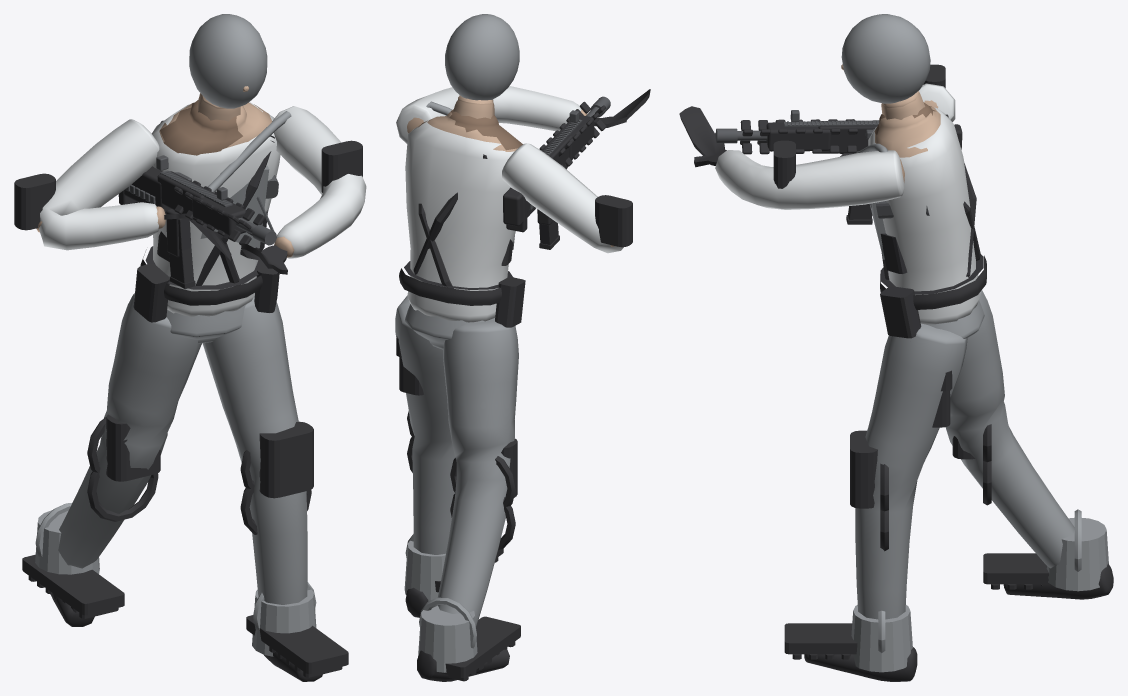
File: arctic-station-fps-kit-defender-light-aiming-cc4028a8__28515.glb
3 views of the same model, side by side, from view 1: azimuth 30°, elevation 25°; view 2: azimuth 150°, elevation 25°; view 3: azimuth 270°, elevation 25° (orthographic). The views are drawn at different scales.
Visible parts, largest first — view 1: defender-light-aiming; view 2: defender-light-aiming; view 3: defender-light-aiming.
Boxes of the visible parts, <box> form: defender-light-aiming: <box>14,14,366,681</box>; defender-light-aiming: <box>395,14,650,681</box>; defender-light-aiming: <box>679,14,1113,681</box>.
Bounding box in the file's own units: 0.7563 × 1.72 × 1.06.
